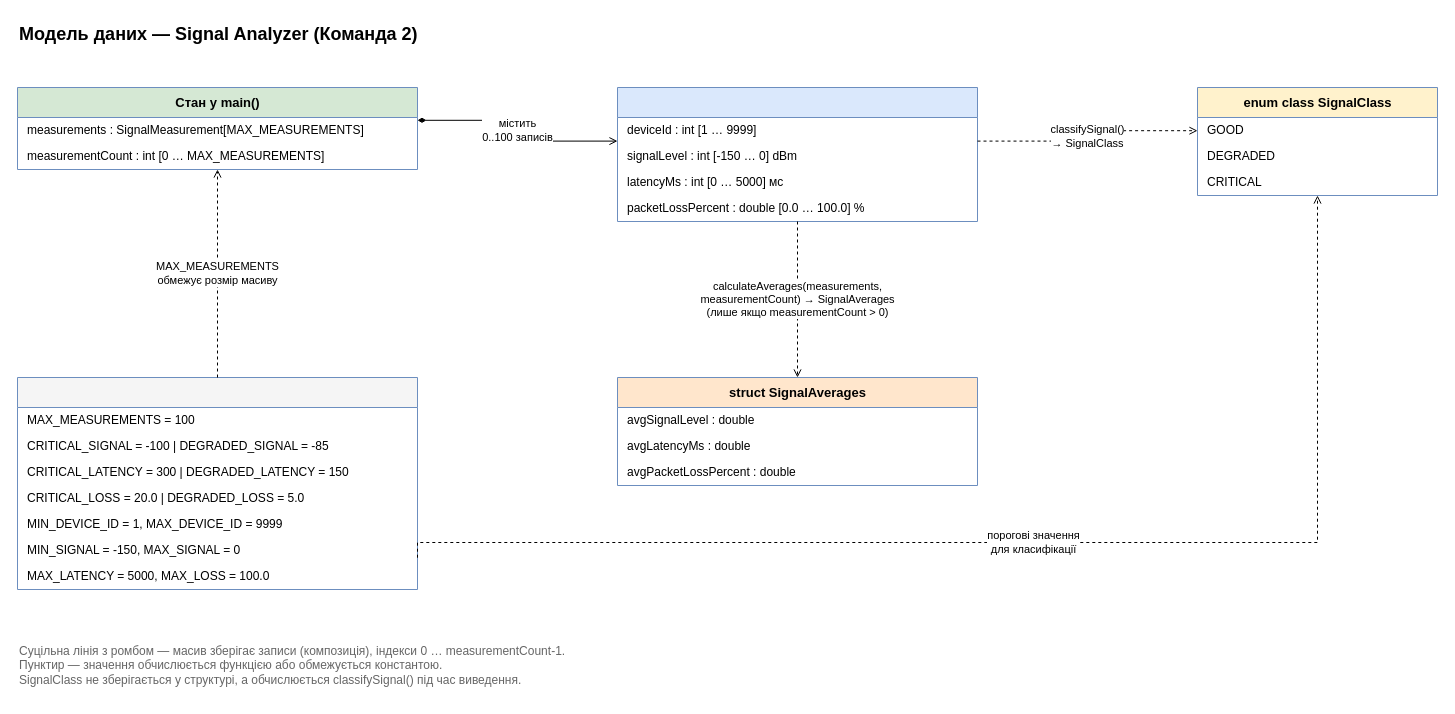
Some shapes in this 1455 by 714 pixel diagram are drawn without their labels. Each missing label, with the box of its shape:
struct SignalMeasurement: (616, 86, 978, 222)
Константи (const): (16, 376, 418, 590)
